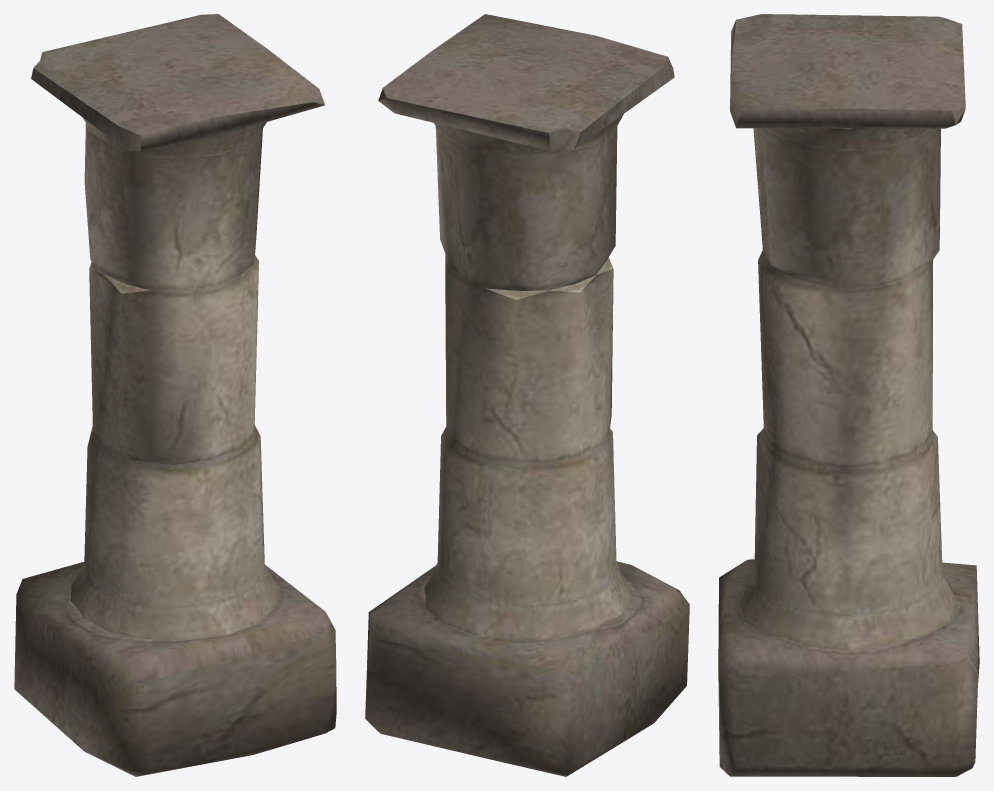
The model's file is mesh_pillar_1.fbx.
3 views of the same model, side by side, from view 1: azimuth 30°, elevation 25°; view 2: azimuth 150°, elevation 25°; view 3: azimuth 270°, elevation 25° (orthographic). The views are drawn at different scales.
Visible parts, largest first — view 1: pillar_1; view 2: pillar_1; view 3: pillar_1.
Boxes of the visible parts, x1,y1,x2,y2 form: pillar_1: (14,14,336,776); pillar_1: (365,14,689,776); pillar_1: (718,14,979,776).
Bounding box in the file's own units: 113 × 323 × 112.
1 material, 1 textured.
